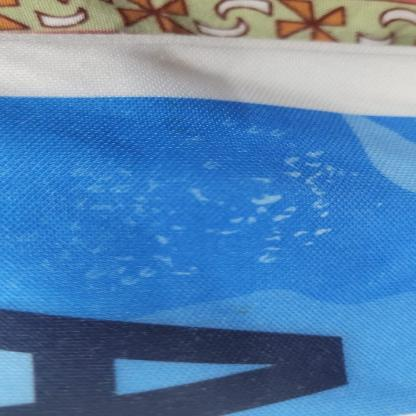spot: (99, 162, 148, 221), (203, 203, 352, 220), (164, 188, 357, 201), (288, 150, 348, 190), (304, 169, 341, 226), (218, 119, 298, 137), (257, 174, 281, 210), (272, 204, 310, 226), (76, 180, 133, 193), (216, 191, 341, 196), (76, 265, 109, 283), (61, 218, 81, 247), (204, 224, 245, 238), (171, 264, 209, 279), (141, 174, 164, 197), (296, 226, 344, 237), (132, 264, 163, 281), (191, 176, 210, 201), (237, 254, 283, 264), (146, 236, 180, 248), (252, 122, 285, 134), (254, 193, 284, 205), (258, 240, 282, 254), (200, 155, 217, 174), (167, 222, 186, 233), (369, 200, 389, 210)
